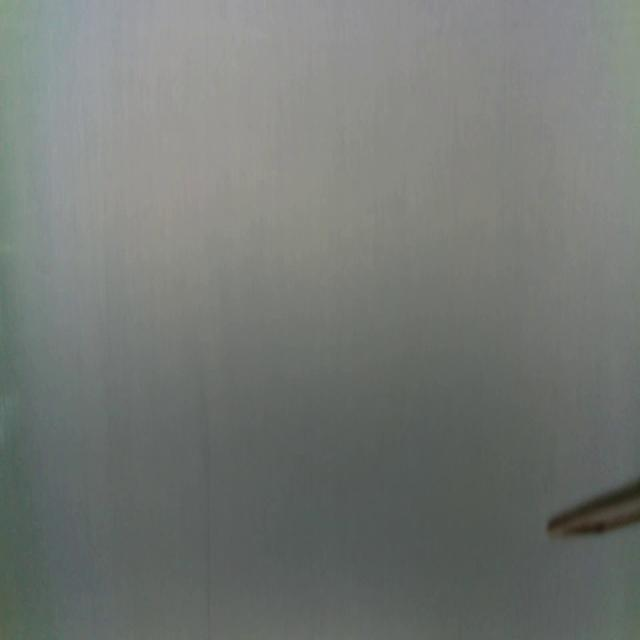crease: (205, 460, 212, 640)
